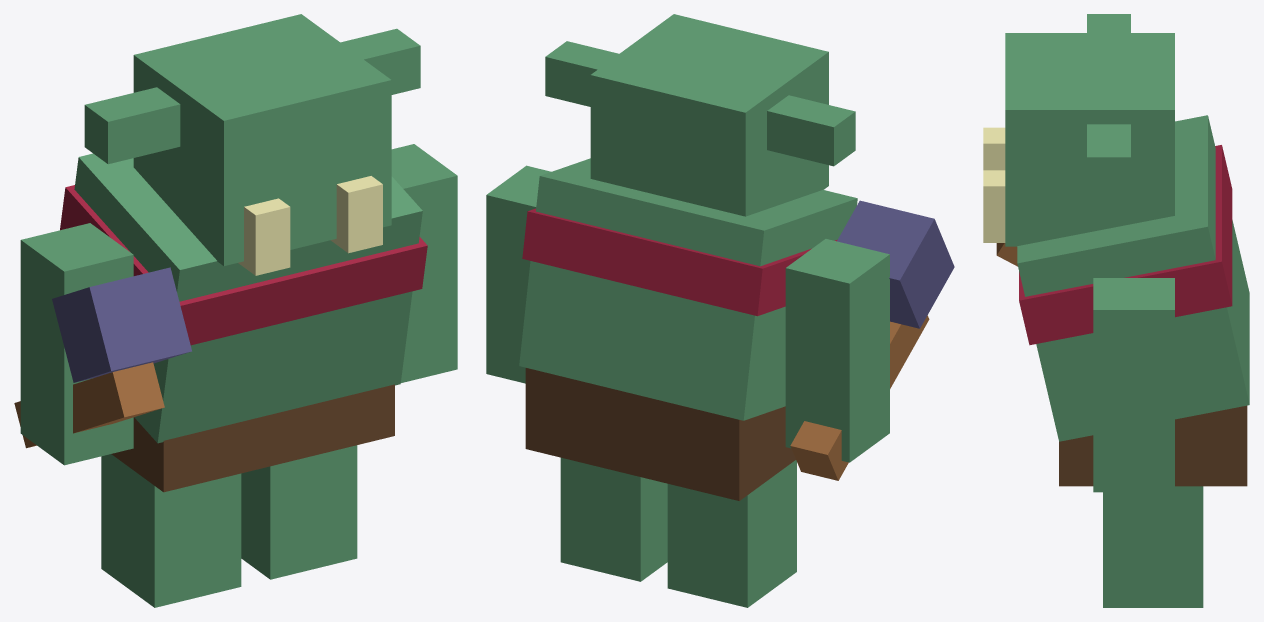
The model's file is drudge.glb.
3 renders of one model, left to right at view 1: azimuth 30°, elevation 25°; view 2: azimuth 150°, elevation 25°; view 3: azimuth 270°, elevation 25°, orthographic. The views are drawn at different scales.
Parts seen in each view (by area): view 1: Model; view 2: Model; view 3: Model.
Part boxes in pixels (left/top/right/bottom): Model: left=14, top=14, right=457, bottom=607; Model: left=486, top=14, right=954, bottom=607; Model: left=983, top=14, right=1249, bottom=607.
Bounding box in the file's own units: 0.7 × 0.86 × 0.424.
